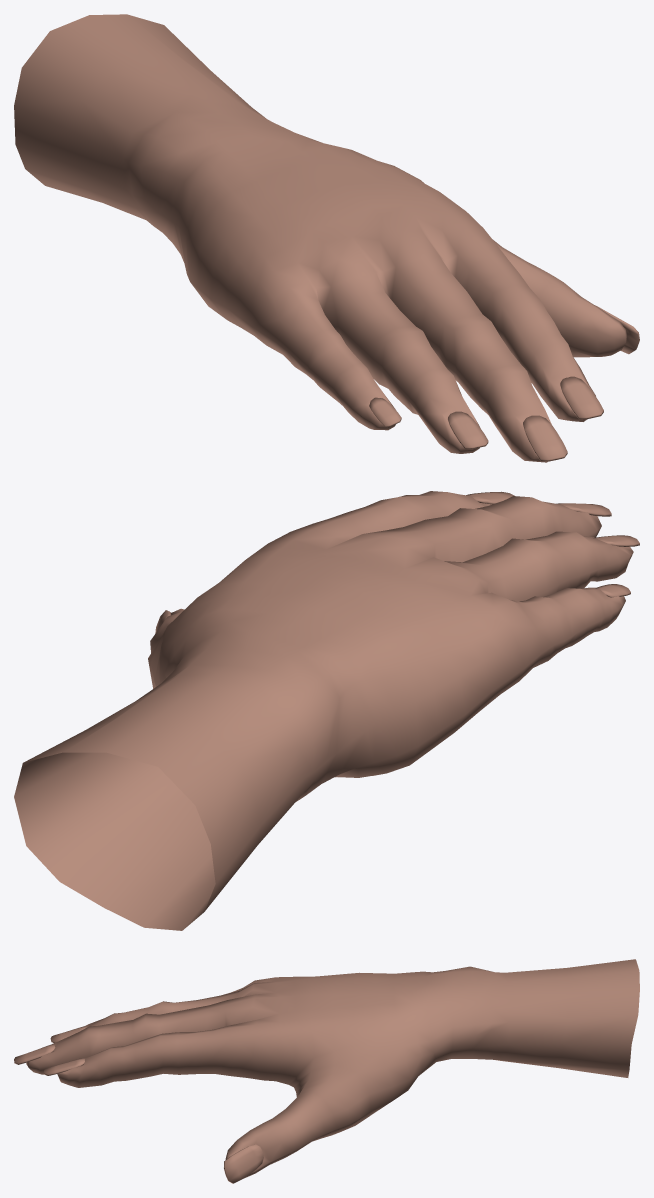
Rendered from 3_1_HandSmoothRightBack.glb.
The picture shows the model from 3 angles, top to bottom: view 1: azimuth 30°, elevation 25°; view 2: azimuth 150°, elevation 25°; view 3: azimuth 270°, elevation 25°; orthographic projection. The views are drawn at different scales.
Parts seen in each view (by area): view 1: hand_femme_rachel_polySurface1130.001; view 2: hand_femme_rachel_polySurface1130.001; view 3: hand_femme_rachel_polySurface1130.001.
Boxes of the visible parts, x1,y1,x2,y2 form: hand_femme_rachel_polySurface1130.001: (14, 14, 639, 462); hand_femme_rachel_polySurface1130.001: (14, 491, 639, 930); hand_femme_rachel_polySurface1130.001: (14, 959, 639, 1183).
Size of the model in its own units: 0.0793 by 0.0399 by 0.1742.
